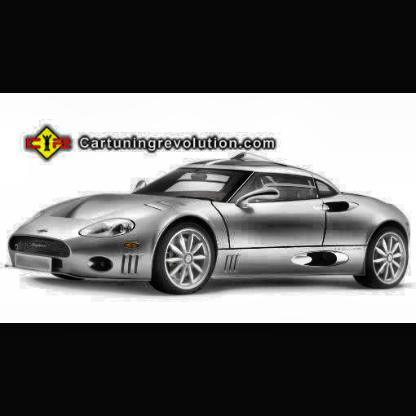Spyker C8 Coupe 2009: (7, 150, 414, 297)
